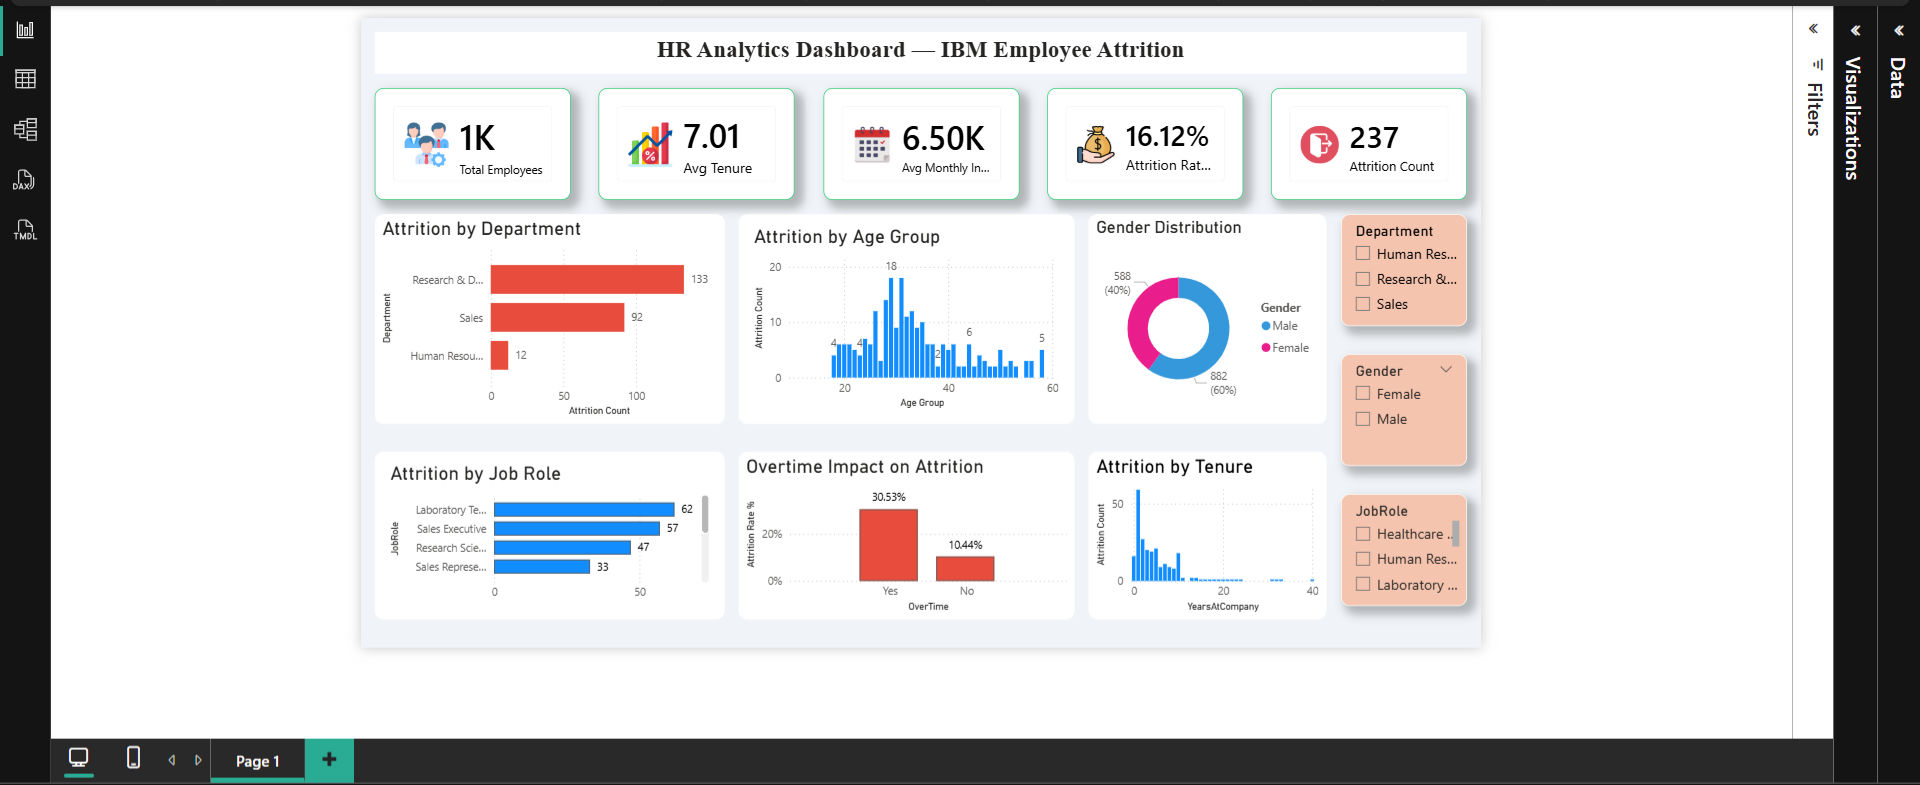

The dashboard page shown, as its layout file describes it:
{"tool":"powerbi","page":{"name":"Page 1","canvas":[1280,720],"ordinal":0},"visuals":[{"type":"textbox","box":[16,16,1248,48],"z":0},{"type":"cardVisual","fields":{"Data":["WA_Fn-UseC_-HR-Employee-Attrition.Attrition Count"]},"box":[1040,80,224,128],"z":1000},{"type":"cardVisual","fields":{"Data":["WA_Fn-UseC_-HR-Employee-Attrition.Attrition Rate %"]},"box":[784,80,224,128],"z":2000},{"type":"cardVisual","title":"Avg Monthly Income","fields":{"Data":["WA_Fn-UseC_-HR-Employee-Attrition.Avg Monthly Income"]},"box":[528,80,224,128],"z":3000},{"type":"cardVisual","fields":{"Data":["WA_Fn-UseC_-HR-Employee-Attrition.Avg Tenure"]},"box":[272,80,224,128],"z":4000},{"type":"cardVisual","fields":{"Data":["WA_Fn-UseC_-HR-Employee-Attrition.Total Employees"]},"box":[16,80,224,128],"z":5000},{"type":"slicer","fields":{"Values":["WA_Fn-UseC_-HR-Employee-Attrition.Department"]},"box":[1120,224,144,128],"z":6000},{"type":"slicer","fields":{"Values":["WA_Fn-UseC_-HR-Employee-Attrition.Gender"]},"box":[1120,384,144,128],"z":7000},{"type":"slicer","fields":{"Values":["WA_Fn-UseC_-HR-Employee-Attrition.JobRole"]},"box":[1120,544,144,128],"z":8000},{"type":"clusteredBarChart","title":"Attrition by Department","fields":{"Category":["WA_Fn-UseC_-HR-Employee-Attrition.Department"],"Y":["WA_Fn-UseC_-HR-Employee-Attrition.Attrition Count"]},"box":[16,224,400,240],"z":9000},{"type":"clusteredColumnChart","title":"Attrition by Age Group","fields":{"Y":["WA_Fn-UseC_-HR-Employee-Attrition.Attrition Count"],"Category":["WA_Fn-UseC_-HR-Employee-Attrition.Age (bins)"]},"box":[432,224,384,240],"z":10000},{"type":"donutChart","title":"Gender Distribution","fields":{"Category":["WA_Fn-UseC_-HR-Employee-Attrition.Gender"],"Y":["WA_Fn-UseC_-HR-Employee-Attrition.Total Employees"]},"box":[832,224,272,240],"z":11000},{"type":"clusteredBarChart","title":"Attrition by Job Role","fields":{"Category":["WA_Fn-UseC_-HR-Employee-Attrition.JobRole"],"Y":["WA_Fn-UseC_-HR-Employee-Attrition.Attrition Count"]},"box":[16,496,400,192],"z":12000},{"type":"clusteredColumnChart","title":"Overtime Impact on Attrition","fields":{"Category":["WA_Fn-UseC_-HR-Employee-Attrition.OverTime"],"Y":["WA_Fn-UseC_-HR-Employee-Attrition.Attrition Rate %"]},"box":[432,496,384,192],"z":13000},{"type":"clusteredColumnChart","title":"Attrition by Tenure","fields":{"Category":["WA_Fn-UseC_-HR-Employee-Attrition.YearsAtCompany"],"Y":["WA_Fn-UseC_-HR-Employee-Attrition.Attrition Count"]},"box":[832,496,272,192],"z":14000}]}

Visuals, with their boxes on the page's 1280x720 design canvas (x1, y1, x2, y2). These are canvas units, not pixel positions in the 1920x785 screenshot, which may show the page scaled, cropped or inside an application window:
textbox: <bbox>16, 16, 1264, 64</bbox>
cardVisual - WA_Fn-UseC_-HR-Employee-Attrition.Attrition Count: <bbox>1040, 80, 1264, 208</bbox>
cardVisual - WA_Fn-UseC_-HR-Employee-Attrition.Attrition Rate %: <bbox>784, 80, 1008, 208</bbox>
"Avg Monthly Income" cardVisual: <bbox>528, 80, 752, 208</bbox>
cardVisual - WA_Fn-UseC_-HR-Employee-Attrition.Avg Tenure: <bbox>272, 80, 496, 208</bbox>
cardVisual - WA_Fn-UseC_-HR-Employee-Attrition.Total Employees: <bbox>16, 80, 240, 208</bbox>
slicer - WA_Fn-UseC_-HR-Employee-Attrition.Department: <bbox>1120, 224, 1264, 352</bbox>
slicer - WA_Fn-UseC_-HR-Employee-Attrition.Gender: <bbox>1120, 384, 1264, 512</bbox>
slicer - WA_Fn-UseC_-HR-Employee-Attrition.JobRole: <bbox>1120, 544, 1264, 672</bbox>
"Attrition by Department" clusteredBarChart: <bbox>16, 224, 416, 464</bbox>
"Attrition by Age Group" clusteredColumnChart: <bbox>432, 224, 816, 464</bbox>
"Gender Distribution" donutChart: <bbox>832, 224, 1104, 464</bbox>
"Attrition by Job Role" clusteredBarChart: <bbox>16, 496, 416, 688</bbox>
"Overtime Impact on Attrition" clusteredColumnChart: <bbox>432, 496, 816, 688</bbox>
"Attrition by Tenure" clusteredColumnChart: <bbox>832, 496, 1104, 688</bbox>
